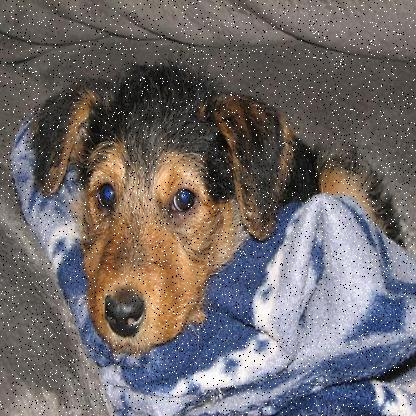dog: (22, 59, 297, 353)
